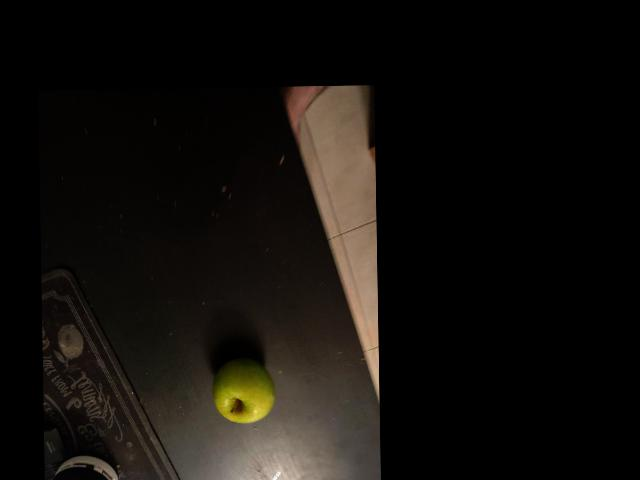apple: (147, 369, 234, 433)
